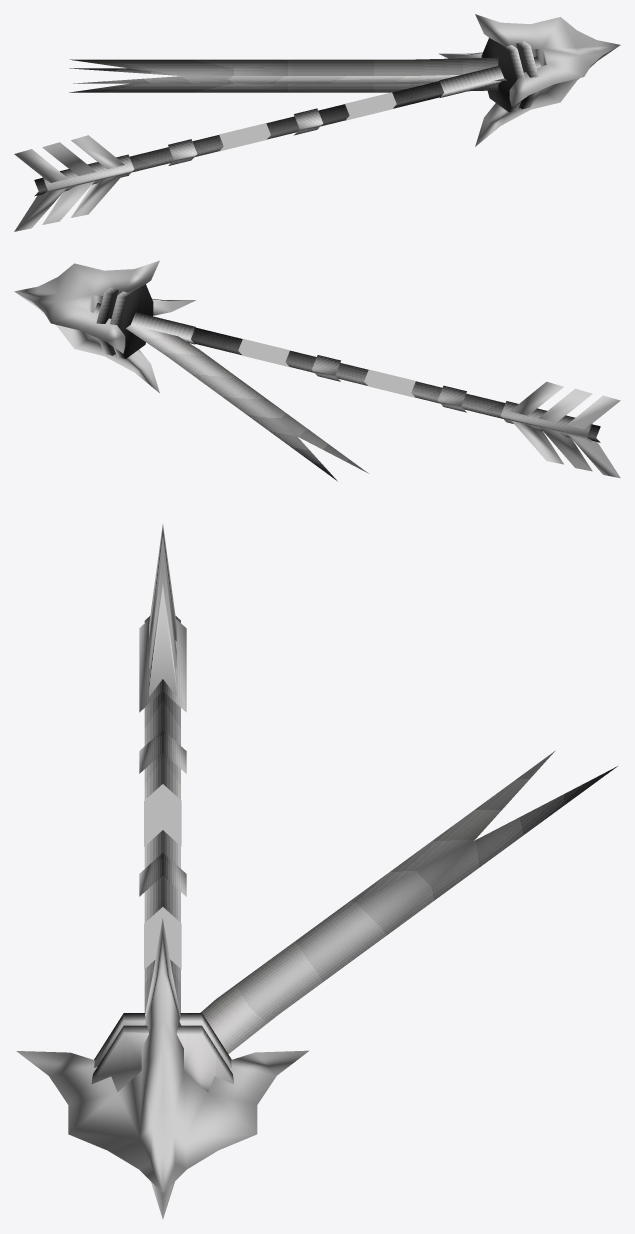
The model's file is FirecrackerArrow_mdx.gltf.
3 renders of one model, top to bottom at view 1: azimuth 30°, elevation 25°; view 2: azimuth 150°, elevation 25°; view 3: azimuth 270°, elevation 25°, orthographic. The views are drawn at different scales.
Visible parts, largest first — view 1: Firecracker Arrow; view 2: Firecracker Arrow; view 3: Firecracker Arrow.
Part boxes in pixels (bbox=[...]): Firecracker Arrow: bbox=[14, 14, 620, 231]; Firecracker Arrow: bbox=[14, 260, 620, 481]; Firecracker Arrow: bbox=[16, 524, 617, 1219].
Bounding box in the file's own units: 77.16 × 16.18 × 33.21.
